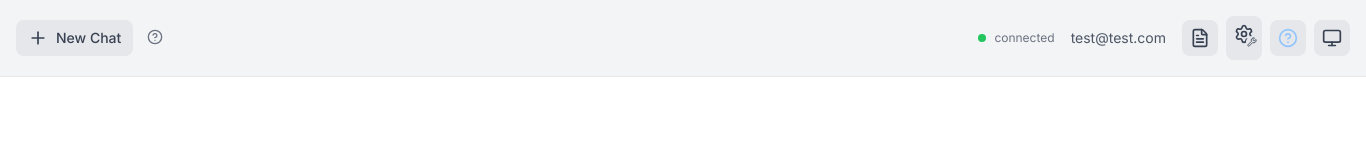
Test: header transcript actions › offers plain text first, then Print / Save as PDF, and no JSON export
Click the button titled "Open Chat Transcript". click: (1200, 38)
box: [1182, 20, 1218, 56]
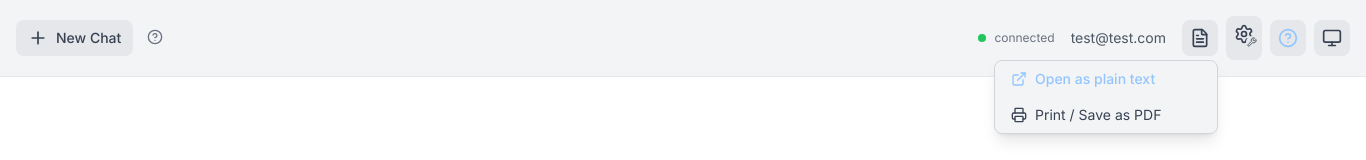
Expected: the menu items read "Open as plain text", "Print / Save as PDF", in this order, [995, 61, 1217, 97]; [995, 97, 1217, 133]
